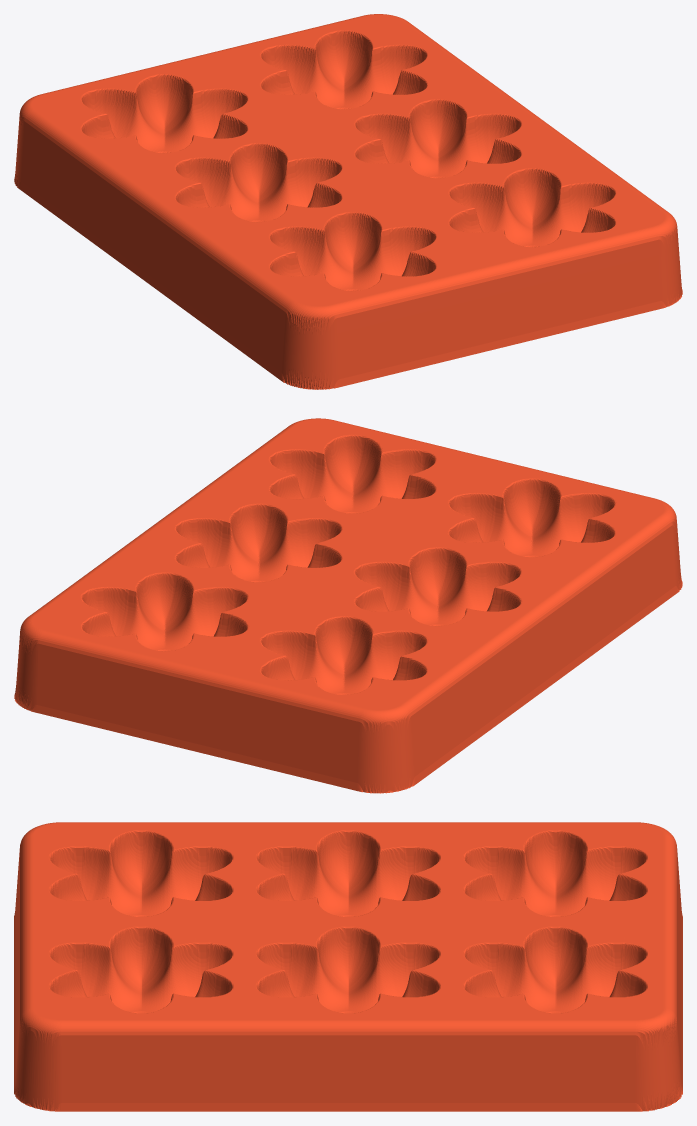
File: mold.glb
3 views of the same model, one above another, from view 1: azimuth 30°, elevation 25°; view 2: azimuth 150°, elevation 25°; view 3: azimuth 270°, elevation 25° (orthographic). The views are drawn at different scales.
Parts seen in each view (by area): view 1: geometry_0; view 2: geometry_0; view 3: geometry_0.
Boxes of the visible parts, x1,y1,x2,y2 form: geometry_0: (14, 14, 682, 389); geometry_0: (14, 418, 682, 793); geometry_0: (14, 822, 682, 1111).
Bounding box in the file's own units: 0.0955 × 0.0175 × 0.1269.
